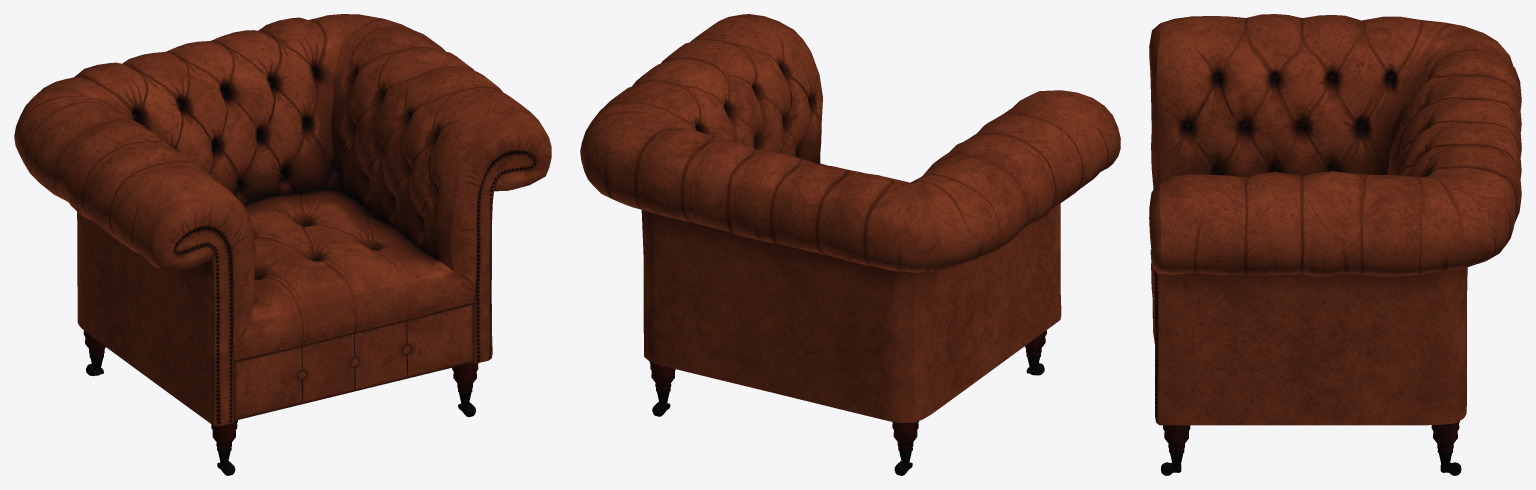
The model's file is regency.obj.
3 views of the same model, side by side, from view 1: azimuth 30°, elevation 25°; view 2: azimuth 150°, elevation 25°; view 3: azimuth 270°, elevation 25° (orthographic). The views are drawn at different scales.
Visible parts, largest first — view 1: Divani_Chester_nuovi_regency_low_Mesh; view 2: Divani_Chester_nuovi_regency_low_Mesh; view 3: Divani_Chester_nuovi_regency_low_Mesh.
Boxes of the visible parts, bbox=[...] form: Divani_Chester_nuovi_regency_low_Mesh: bbox=[14, 14, 551, 475]; Divani_Chester_nuovi_regency_low_Mesh: bbox=[580, 14, 1120, 475]; Divani_Chester_nuovi_regency_low_Mesh: bbox=[1149, 14, 1521, 475].
Bounding box in the file's own units: 1.11 × 0.7698 × 0.8292.
Materials: 1 (1 with a texture image).
